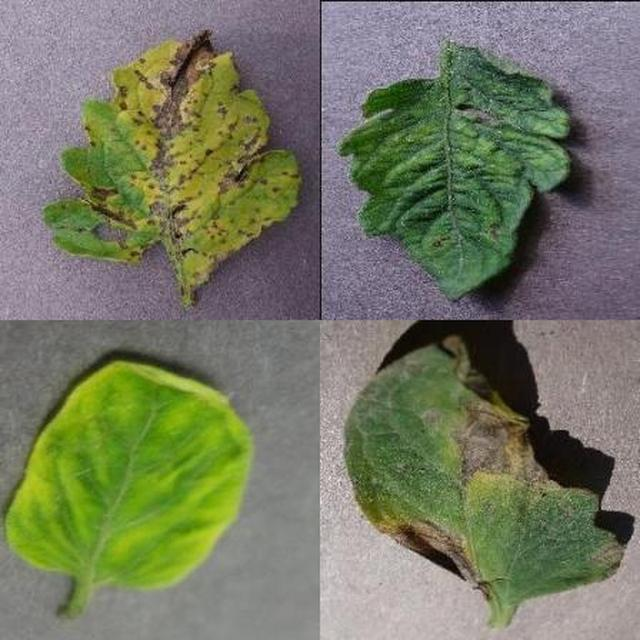Septoria Leaf: (185, 223, 640, 640)
